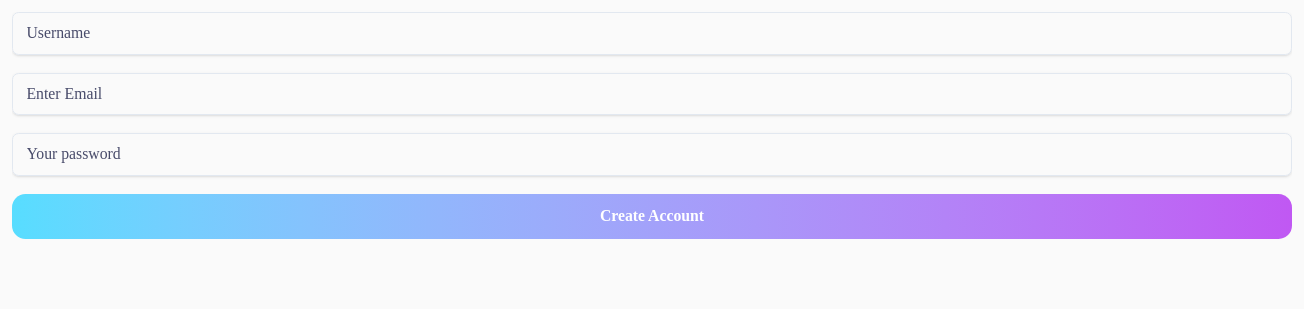
it: RegisterForm › should show error on missing fields (from server)
The image size is (1304, 309).
Type "alice@example.com" into the field with placeholder "Enter Email".
click(652, 94); type("alice@example.com")  # box 12,72 -> 1292,115
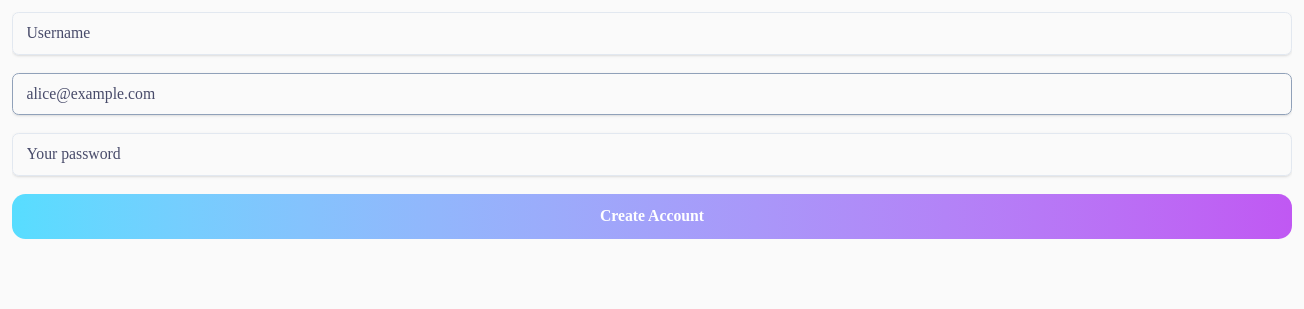
Type "secret123" into the password field with placeholder "Your password".
click(652, 154); type("secret123")  # box 12,133 -> 1292,176
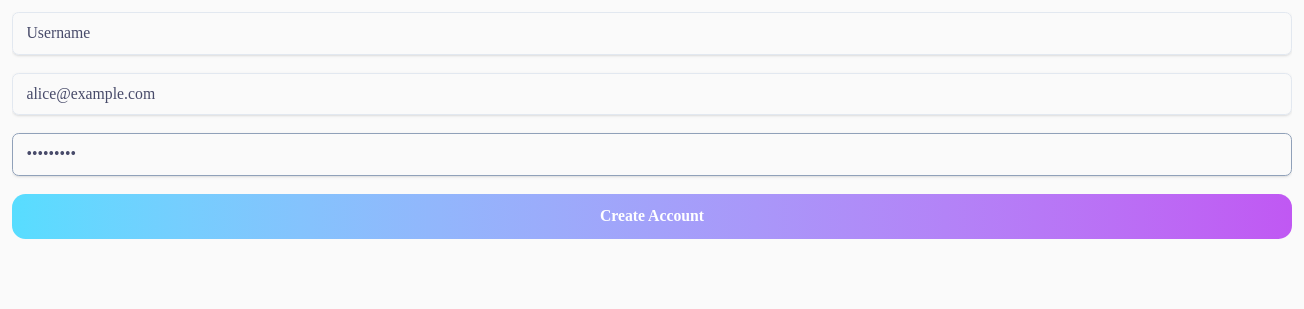
Click the button "Create Account".
click(652, 216)  # box 12,194 -> 1292,238
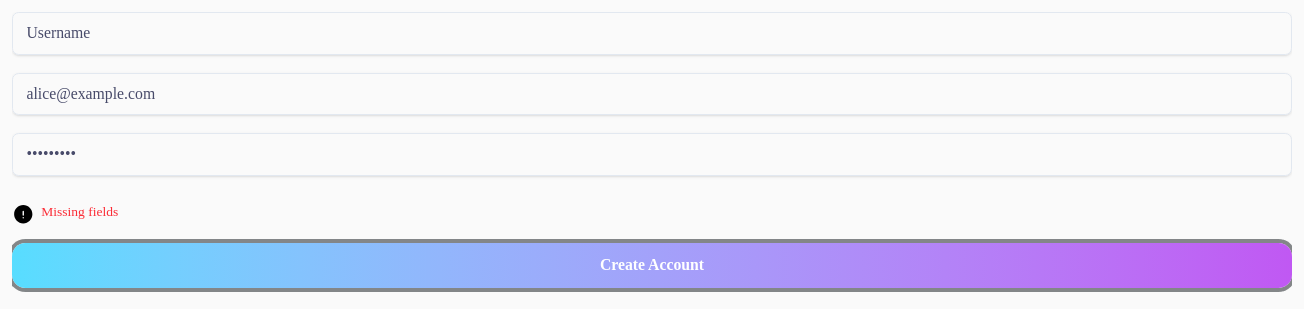
Result: the text "Missing fields" is shown at 12,202 -> 118,225
